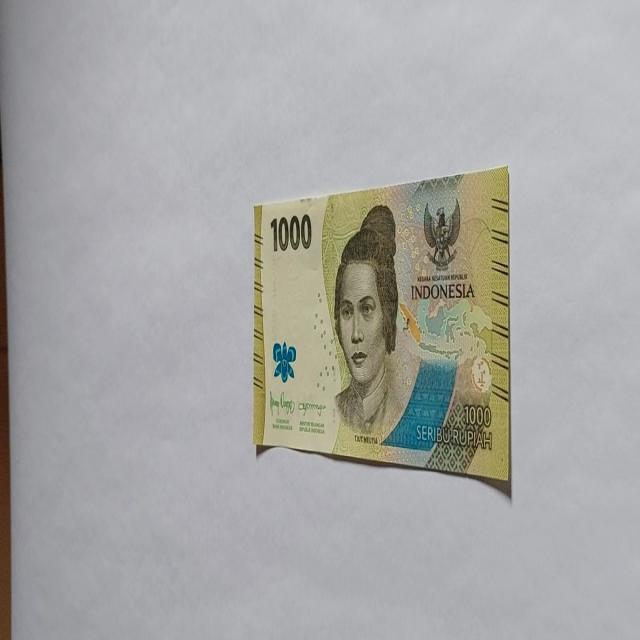seribu rupiah kertas: (251, 164, 511, 497)
